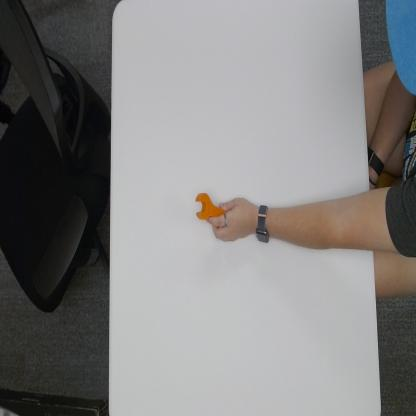Arm: (279, 180, 389, 258)
Hand: (215, 192, 254, 247)
Screwdriver: (194, 192, 236, 224)
